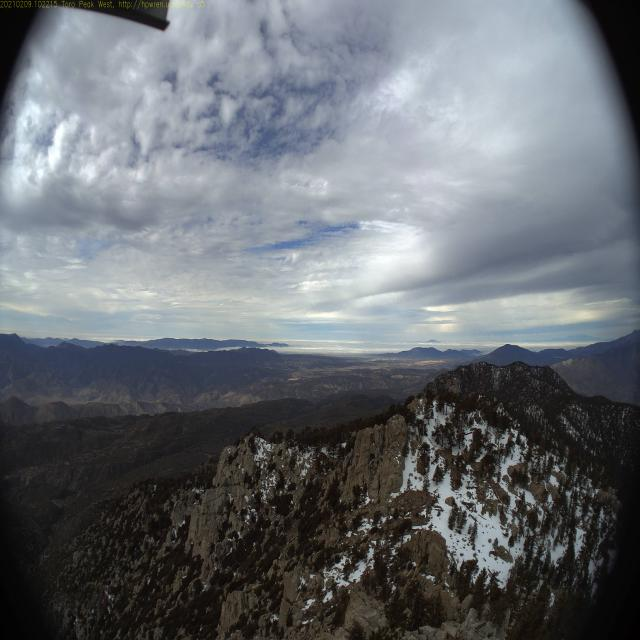smoke: (116, 339, 126, 348)
